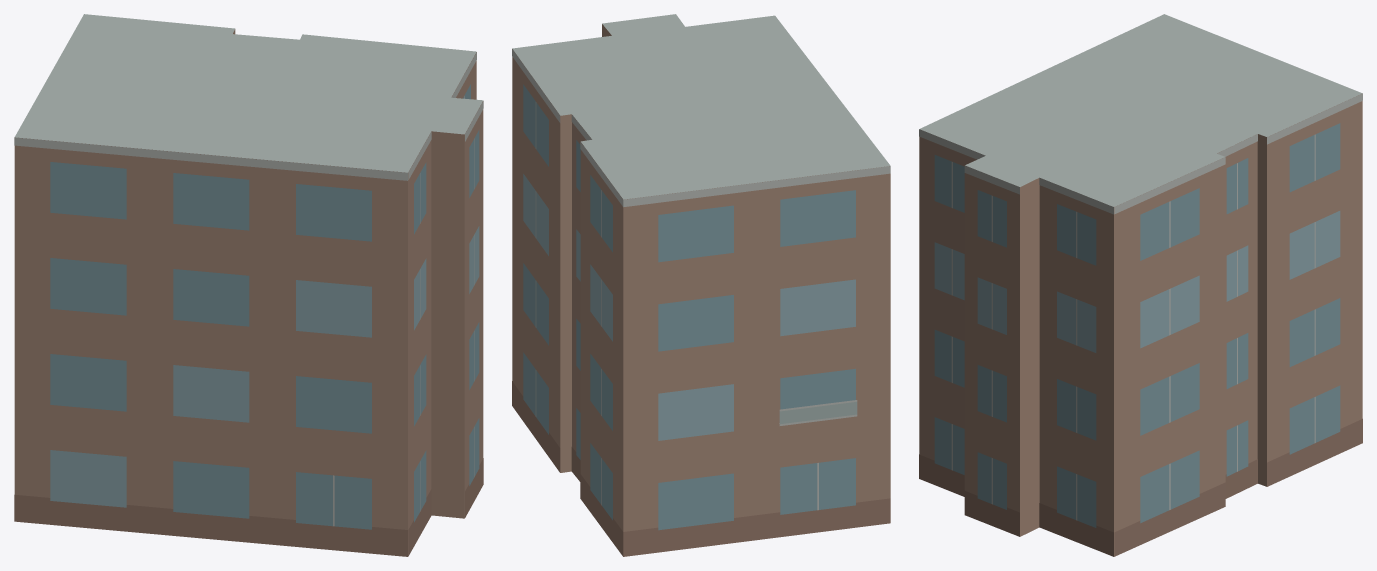
The model's file is survey-upis-32914607.glb.
3 renders of one model, left to right at view 1: azimuth 30°, elevation 25°; view 2: azimuth 150°, elevation 25°; view 3: azimuth 270°, elevation 25°, orthographic. The views are drawn at different scales.
Visible parts, largest first — view 1: survey-upis-32914607.tmp; view 2: survey-upis-32914607.tmp; view 3: survey-upis-32914607.tmp.
Boxes of the visible parts, <box> form: survey-upis-32914607.tmp: <box>14,14,483,556</box>; survey-upis-32914607.tmp: <box>512,14,890,556</box>; survey-upis-32914607.tmp: <box>919,14,1362,556</box>.
Bounding box in the file's own units: 13.51 × 11.4 × 13.11.
